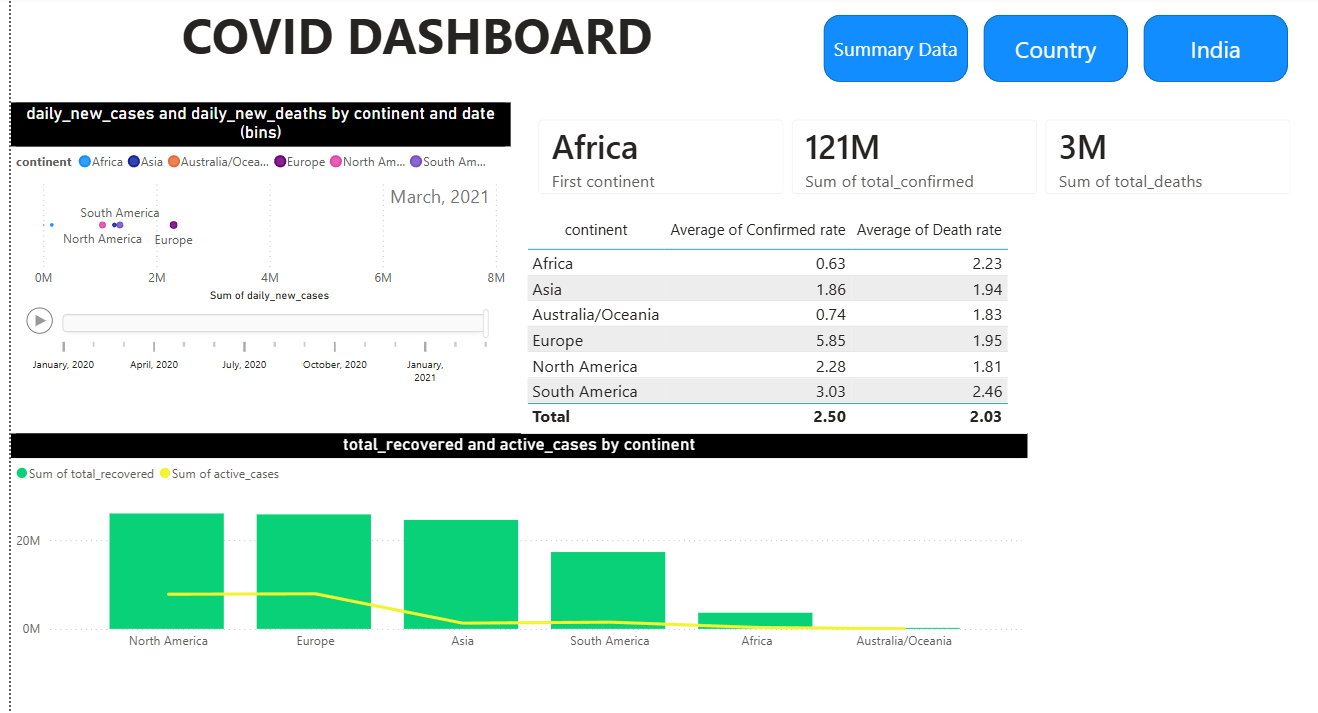

The dashboard page shown, as its layout file describes it:
{"tool":"powerbi","page":{"name":"continent","canvas":[1280,720],"ordinal":1},"visuals":[{"type":"scatterChart","title":"daily_new_cases and daily_new_deaths by continent and date (bins)","fields":{"Series":["summary data.continent"],"X":["Sum(daily data.daily_new_cases)"],"Size":["Sum(daily data.daily_new_deaths)"],"Play":["daily data.date (bins)"]},"box":[0,104.3,488.5,279.9],"z":0},{"type":"lineStackedColumnComboChart","title":"total_recovered and active_cases by continent","fields":{"Category":["summary data.continent"],"Y":["Sum(summary data.total_recovered)"],"Y2":["Sum(summary data.active_cases)"]},"box":[0,428,994.2,221.3],"z":1000},{"type":"cardVisual","fields":{"Data":["Min(summary data.continent)","Sum(summary data.total_confirmed)","Sum(summary data.total_deaths)"]},"box":[499.5,104.3,771.2,107],"z":2000},{"type":"tableEx","fields":{"Values":["summary data.continent","Avg(summary data.Confirmed rate)","Avg(summary data.Death rate)"]},"box":[499.5,211.3,495.4,216.8],"z":3000},{"type":"shape","box":[794.5,17.8,141.3,65.9],"z":4000},{"type":"shape","box":[950.9,17.8,141.3,65.9],"z":5000},{"type":"shape","box":[1107.4,17.8,141.3,65.9],"z":6000},{"type":"textbox","box":[0,0,794.5,83.7],"z":7000}]}

Visuals, with their boxes on the page's 1280x720 design canvas (x1, y1, x2, y2). These are canvas units, not pixel positions in the 1318x713 screenshot, which may show the page scaled, cropped or inside an application window:
"daily_new_cases and daily_new_deaths by continent and date (bins)" scatterChart: (x1=0, y1=104, x2=488, y2=384)
"total_recovered and active_cases by continent" lineStackedColumnComboChart: (x1=0, y1=428, x2=994, y2=649)
cardVisual - Min(summary data.continent) x Sum(summary data.total_confirmed): (x1=500, y1=104, x2=1271, y2=211)
tableEx - summary data.continent x Avg(summary data.Confirmed rate): (x1=500, y1=211, x2=995, y2=428)
shape: (x1=794, y1=18, x2=936, y2=84)
shape: (x1=951, y1=18, x2=1092, y2=84)
shape: (x1=1107, y1=18, x2=1249, y2=84)
textbox: (x1=0, y1=0, x2=794, y2=84)
